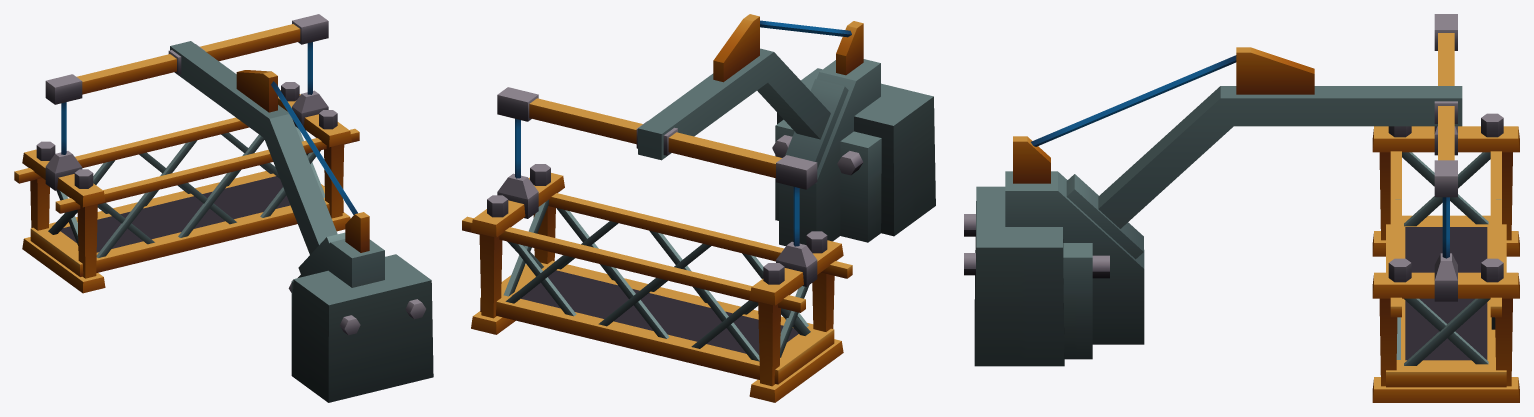
Rendered from Window_Washer_1A.fbx.
3 renders of one model, left to right at view 1: azimuth 30°, elevation 25°; view 2: azimuth 150°, elevation 25°; view 3: azimuth 270°, elevation 25°, orthographic. The views are drawn at different scales.
Parts seen in each view (by area): view 1: Window_Washer_1A; view 2: Window_Washer_1A; view 3: Window_Washer_1A.
Part boxes in pixels (x1,y1,x2,y2): Window_Washer_1A: [14, 14, 433, 402]; Window_Washer_1A: [462, 14, 935, 402]; Window_Washer_1A: [964, 14, 1519, 402].
Bounding box in the file's own units: 729 × 546 × 964.
